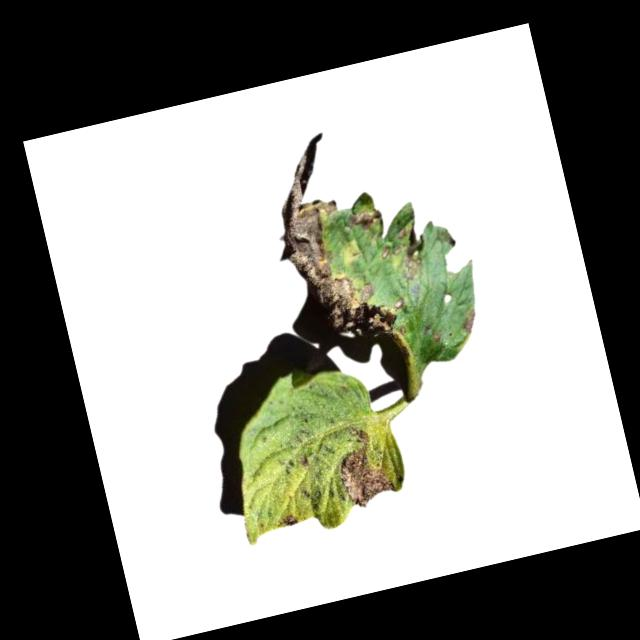Early_blight: (264, 122, 400, 343), (330, 418, 397, 511), (378, 219, 434, 285), (455, 304, 481, 338), (277, 511, 299, 530)
